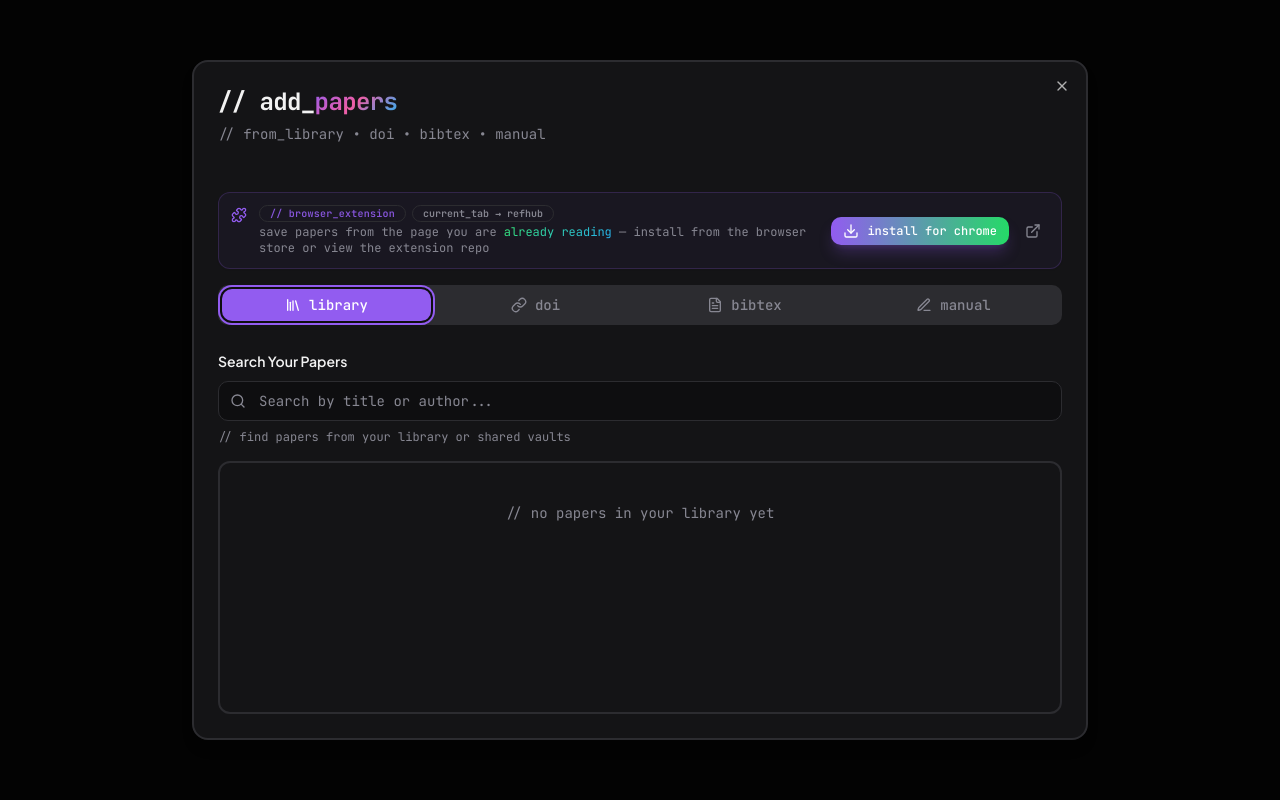
Test: AddImportDialog — pre-import relationship scan (ephemeral, single paper + vault) › scanning finds suggestions; approving stages them without writing to the DB yet
Press the mouse on the tab "doi" at coordinates (536, 305), box x1=431 y1=289 x2=640 y2=321
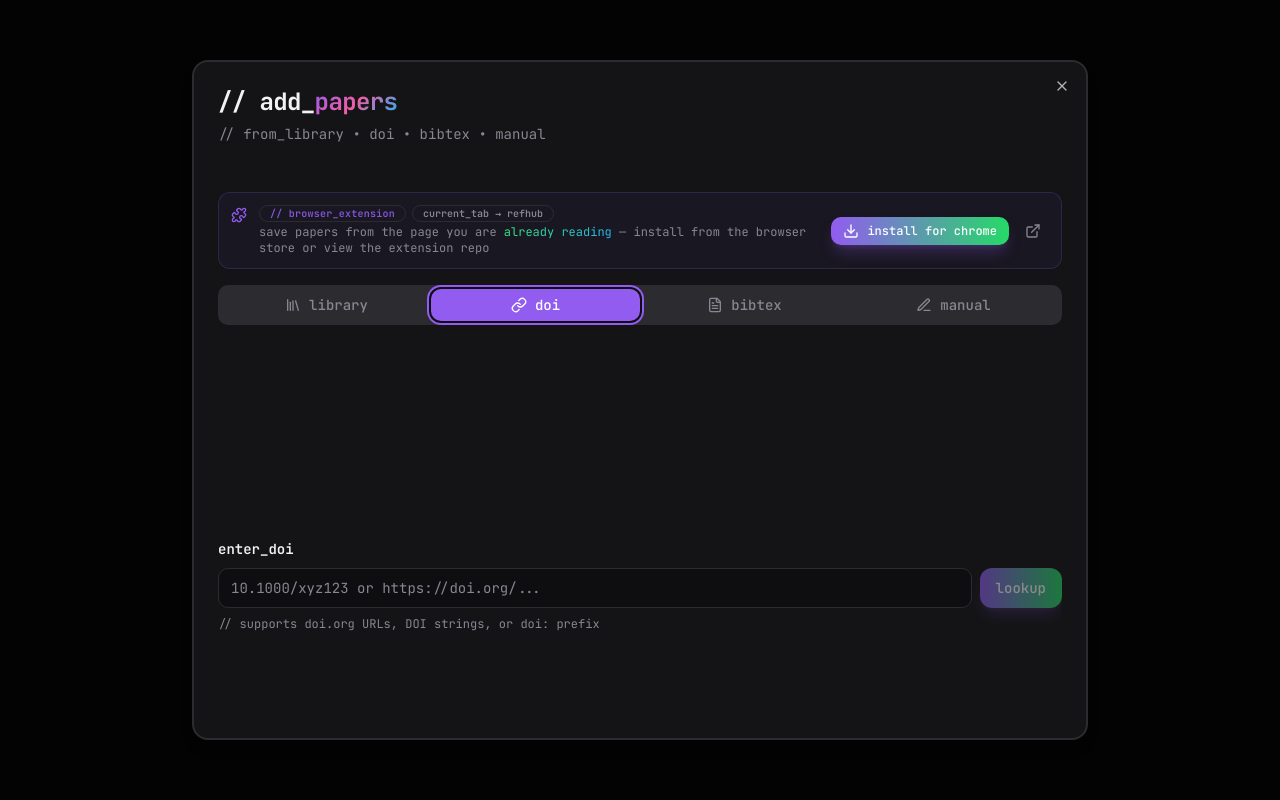
Type "10.1/resolved" into the field with placeholder "10.1000/xyz123 or https://doi.org/...".
click(595, 588); type("10.1/resolved")  # box x1=218 y1=568 x2=972 y2=608
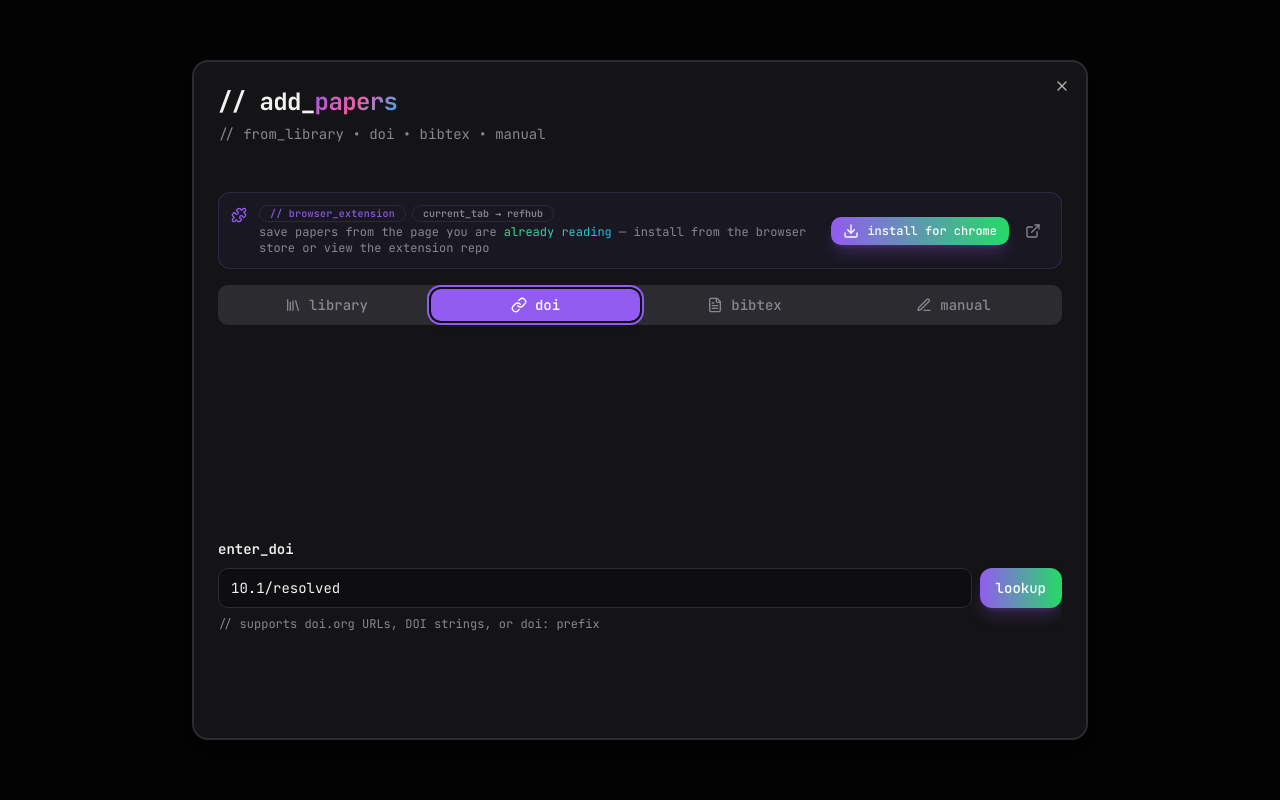
Click the button "lookup".
click(1021, 588)  # box x1=980 y1=568 x2=1062 y2=608
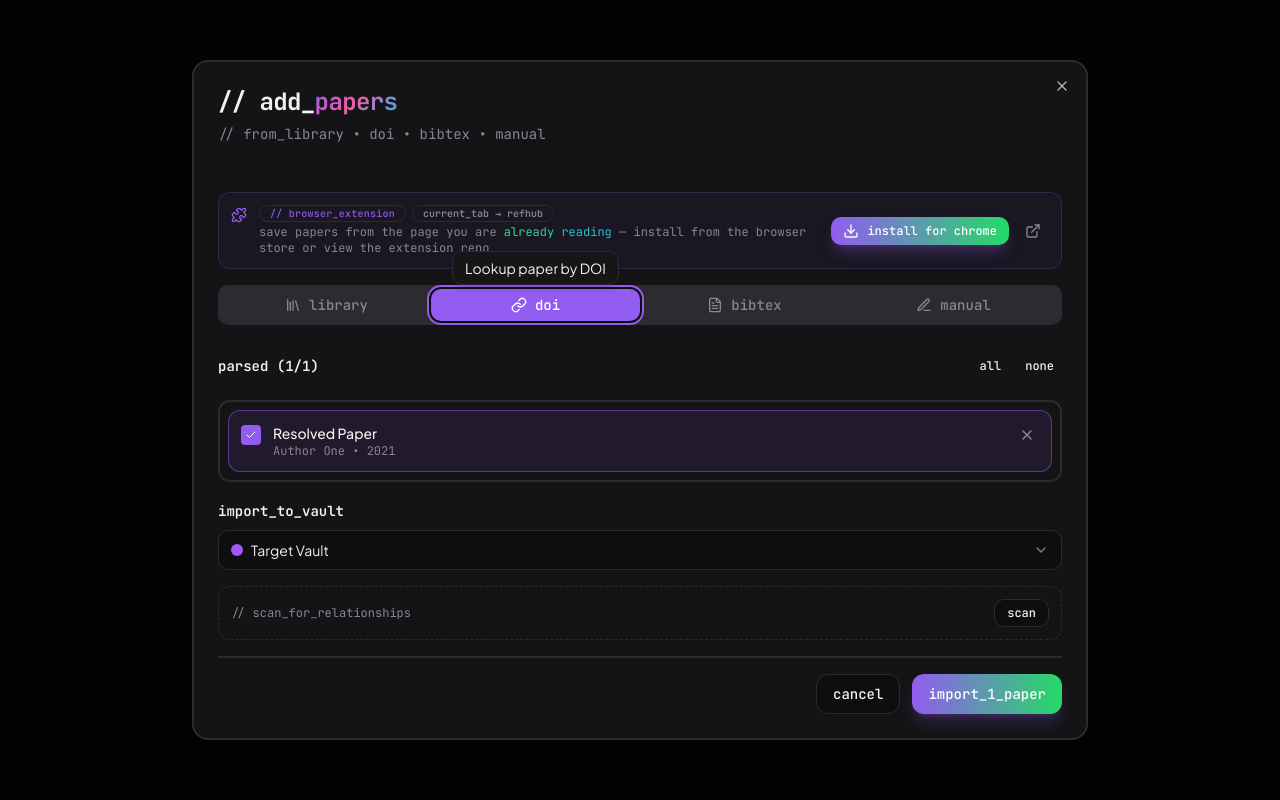
Expected: the text "Resolved Paper" is shown, x1=273 y1=424 x2=377 y2=442
Click the button "scan".
click(1022, 613)  # box x1=994 y1=599 x2=1049 y2=627
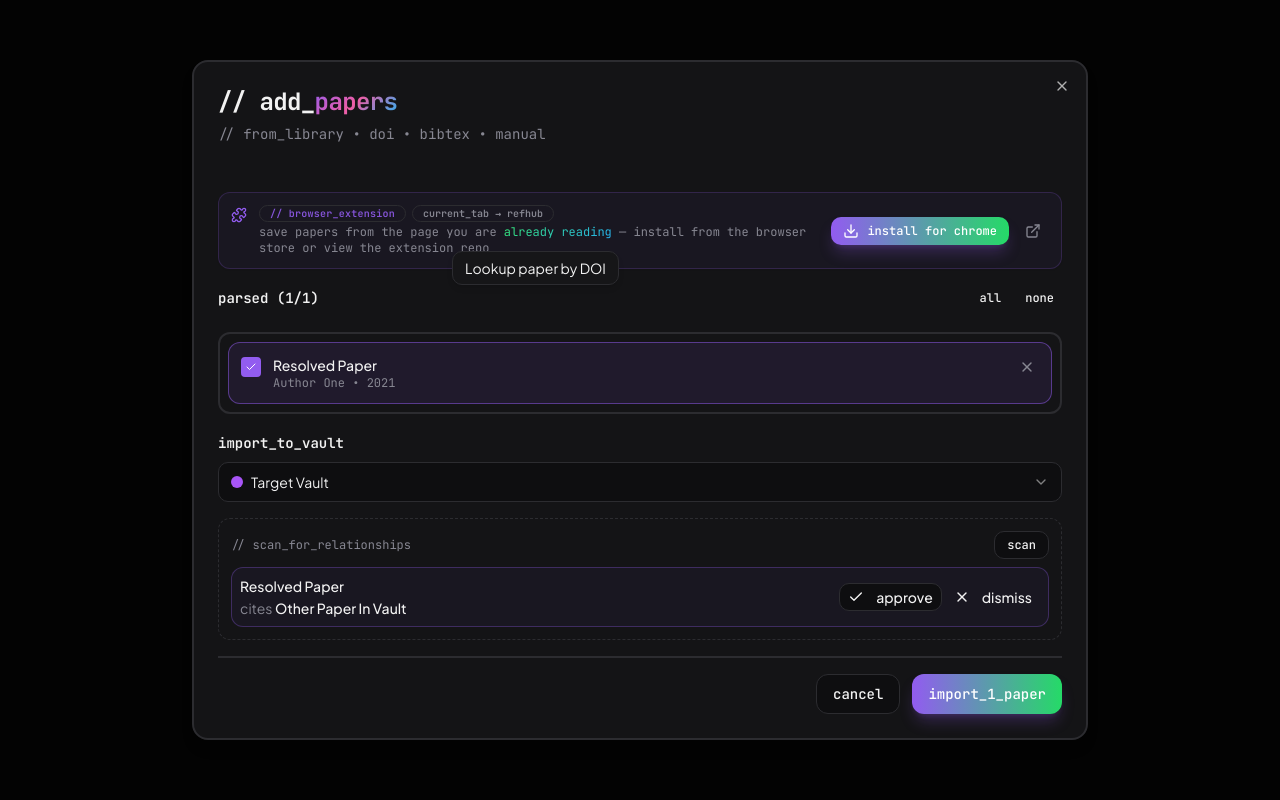
Expected: the text "Other Paper In Vault" is shown, x1=275 y1=599 x2=407 y2=617
Click the button "approve".
click(890, 597)  # box x1=839 y1=583 x2=942 y2=611
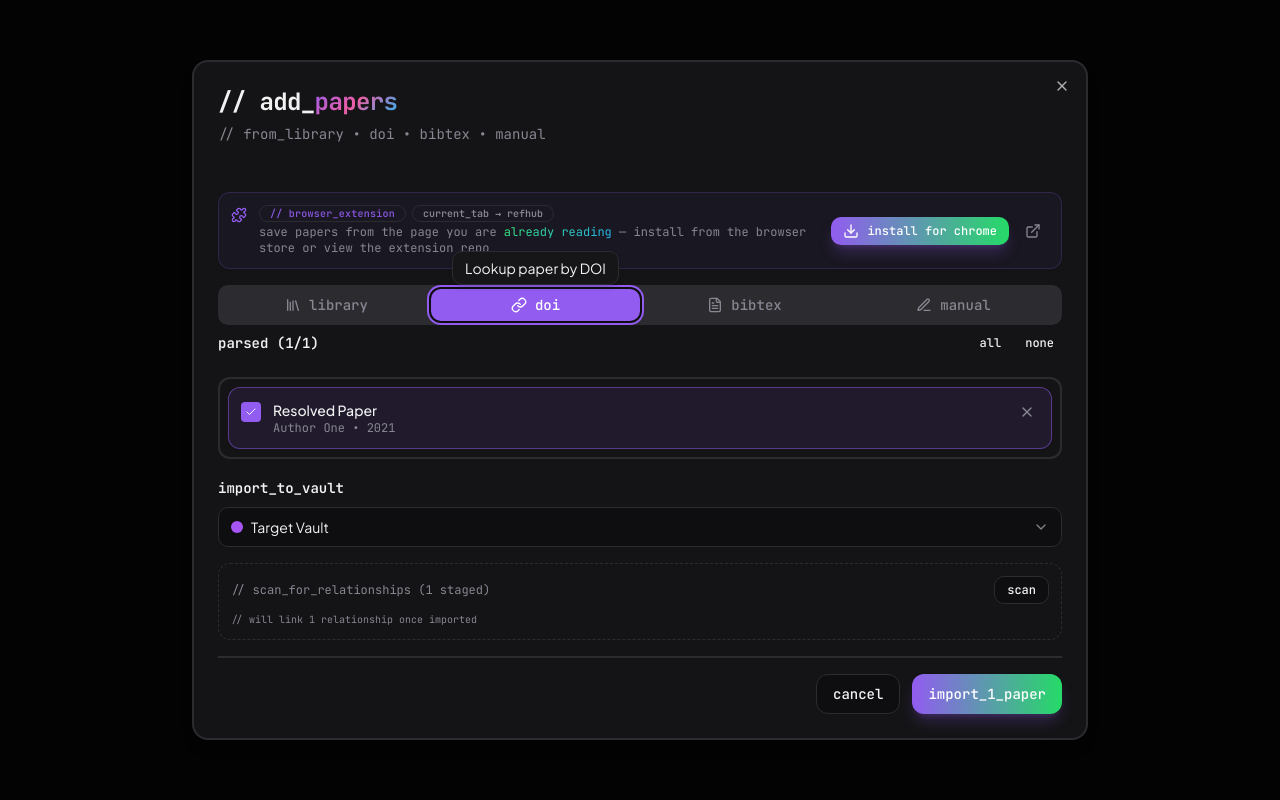
Expected: the text "// scan_for_relationships (1 staged)" is shown, x1=231 y1=582 x2=490 y2=598
